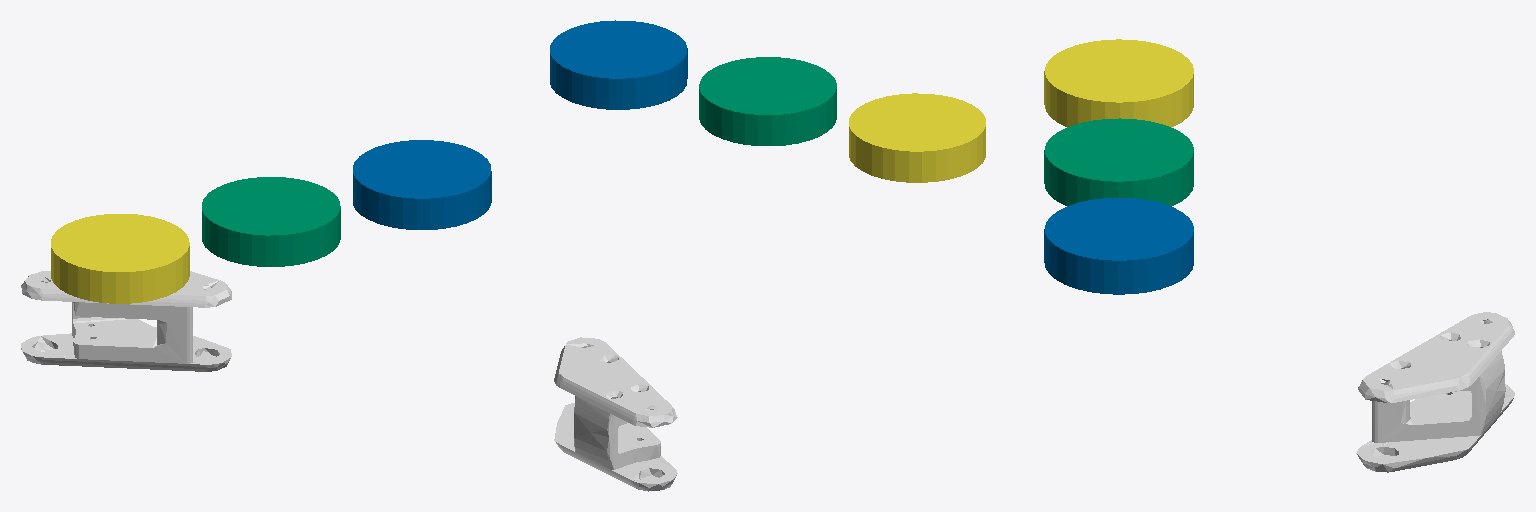
URDF robot description (avatar_gripper_3f_model):
<?xml version="1.0" ?>
<!-- =================================================================================== -->
<!-- |    This document was autogenerated by xacro from [local-path]/avatar_ws/src/avatar_simulation/avatar_gripper_description/urdf/avatar_gripper_3f_example.xacro | -->
<!-- |    EDITING THIS FILE BY HAND IS NOT RECOMMENDED                                 | -->
<!-- =================================================================================== -->
<robot name="avatar_gripper_3f_model">
  <link name="right_thumb_base">
    <inertial>
      <mass value="0.5"/>
      <inertia ixx="4E-5" ixy="0.0" ixz="0.0" iyy="4E-5" iyz="0.0" izz="4E-5"/>
    </inertial>
    <visual>
      <origin rpy="0 0 0" xyz="0 0 0"/>
      <geometry>
        <mesh filename="package://avatar_gripper_description/meshes/right/thumb_base_extra.STL"/>
      </geometry>
      <material name="">
        <color rgba="0.9 0.9 0.9 1"/>
      </material>
    </visual>
    <collision>
      <origin rpy="0 0 0" xyz="0 0 0"/>
      <geometry>
        <mesh filename="package://avatar_gripper_description/meshes/right/thumb_base_extra.STL"/>
      </geometry>
    </collision>
  </link>
  <link name="right_thumb_knuckle">
    <inertial>
      <mass value="0.5"/>
      <inertia ixx="4E-5" ixy="0.0" ixz="0.0" iyy="4E-5" iyz="0.0" izz="4E-5"/>
    </inertial>
    <visual>
      <origin rpy="0 0 0" xyz="0 0 0"/>
      <geometry>
        <mesh filename="package://avatar_gripper_description/meshes/right/thumb_knuckle.STL"/>
      </geometry>
      <material name="">
        <color rgba="0.9 0.9 0.9 1"/>
      </material>
    </visual>
    <collision>
      <origin rpy="0 0 0" xyz="0 0 0"/>
      <geometry>
        <mesh filename="package://avatar_gripper_description/meshes/right/thumb_knuckle.STL"/>
      </geometry>
    </collision>
  </link>
  <joint name="right_thumb_knuckle_joint" type="revolute">
    <origin rpy="0 2.75 0" xyz="0 0 0"/>
    <parent link="right_thumb_base"/>
    <child link="right_thumb_knuckle"/>
    <axis xyz="0 1 0"/>
    <limit effort="1000" lower="-1.0" upper="0.4" velocity="2.0"/>
  </joint>
  <link name="right_thumb_finger">
    <inertial>
      <mass value="0.5"/>
      <inertia ixx="4E-5" ixy="0.0" ixz="0.0" iyy="4E-5" iyz="0.0" izz="4E-5"/>
    </inertial>
    <visual>
      <origin rpy="0 0 0" xyz="0 0 0"/>
      <geometry>
        <mesh filename="package://avatar_gripper_description/meshes/right/thumb_fingertip.STL"/>
      </geometry>
      <material name="">
        <color rgba="0.9 0.9 0.9 1"/>
      </material>
    </visual>
    <collision>
      <origin rpy="0 0 0" xyz="0 0 0"/>
      <geometry>
        <mesh filename="package://avatar_gripper_description/meshes/right/thumb_fingertip.STL"/>
      </geometry>
    </collision>
  </link>
  <joint name="right_thumb_finger_joint" type="revolute">
    <origin rpy="0 0.57 0" xyz="0.04568 0 0.01106"/>
    <parent link="right_thumb_knuckle"/>
    <child link="right_thumb_finger"/>
    <axis xyz="0 1 0"/>
    <limit effort="1000" lower="-0.8" upper="0" velocity="2.0"/>
  </joint>
  <link name="right_thumb_swivel_link">
    <inertial>
      <mass value="0.1"/>
      <inertia ixx="4E-5" ixy="0.0" ixz="0.0" iyy="4E-5" iyz="0.0" izz="4E-5"/>
    </inertial>
    <visual>
      <origin rpy="0 0 0" xyz="0 0 0"/>
      <geometry>
        <mesh filename="package://avatar_gripper_description/meshes/right/thumb_swivel_link.STL"/>
      </geometry>
      <material name="">
        <color rgba="0.9 0.9 0.9 1"/>
      </material>
    </visual>
    <collision>
      <origin rpy="0 0 0" xyz="0 0 0"/>
      <geometry>
        <mesh filename="package://avatar_gripper_description/meshes/right/thumb_swivel_link.STL"/>
      </geometry>
    </collision>
  </link>
  <joint name="right_thumb_swivel_joint" type="revolute">
    <origin rpy="0 0 0" xyz="0 0 0.0173"/>
    <parent link="right_index_base_connector"/>
    <child link="right_thumb_swivel_link"/>
    <axis xyz="0 0 1"/>
    <limit effort="1000" lower="0" upper="1.7" velocity="2.0"/>
  </joint>
  <joint name="right_thumb_base_swivel_joint" type="fixed">
    <origin rpy="0 0 0" xyz="-0.03742 0 0.05089"/>
    <parent link="right_thumb_swivel_link"/>
    <child link="right_thumb_base"/>
  </joint>
  <link name="right_index_base_connector">
    <inertial>
      <mass value="0.02"/>
      <inertia ixx="4E-5" ixy="0.0" ixz="0.0" iyy="4E-5" iyz="0.0" izz="4E-5"/>
    </inertial>
    <visual>
      <origin rpy="0 0 0" xyz="0 0 0"/>
      <geometry>
        <mesh filename="package://avatar_gripper_description/meshes/right/index_base_connector.STL"/>
      </geometry>
      <material name="">
        <color rgba="0.9 0.9 0.9 1"/>
      </material>
    </visual>
    <collision>
      <origin rpy="0 0 0" xyz="0 0 0"/>
      <geometry>
        <mesh filename="package://avatar_gripper_description/meshes/right/index_base_connector.STL"/>
      </geometry>
      <material name="">
        <color rgba="0.9 0.9 0.9 1"/>
      </material>
    </collision>
  </link>
  <link name="right_index_knuckle">
    <inertial>
      <mass value="0.5"/>
      <inertia ixx="4E-5" ixy="0.0" ixz="0.0" iyy="4E-5" iyz="0.0" izz="4E-5"/>
    </inertial>
    <visual>
      <origin rpy="0 0 0" xyz="0 0 0"/>
      <geometry>
        <mesh filename="package://avatar_gripper_description/meshes/right/index_knuckle.STL"/>
      </geometry>
      <material name="">
        <color rgba="0.9 0.9 0.9 1"/>
      </material>
    </visual>
    <collision>
      <origin rpy="0 0 0" xyz="0 0 0"/>
      <geometry>
        <mesh filename="package://avatar_gripper_description/meshes/right/index_knuckle.STL"/>
      </geometry>
    </collision>
  </link>
  <joint name="right_index_knuckle_joint" type="revolute">
    <origin rpy="1.94428593 1.07478656 1.98996937" xyz="-0.021564878 0.008545 -0.0024358"/>
    <parent link="right_index_base_connector"/>
    <child link="right_index_knuckle"/>
    <axis xyz="0 0 1"/>
    <limit effort="1000" lower="-0.8" upper="0" velocity="2.0"/>
  </joint>
  <link name="right_index_fingertip">
    <inertial>
      <mass value="0.5"/>
      <inertia ixx="4E-5" ixy="0.0" ixz="0.0" iyy="4E-5" iyz="0.0" izz="4E-5"/>
    </inertial>
    <visual>
      <origin rpy="0 0 0" xyz="0 0 0"/>
      <geometry>
        <mesh filename="package://avatar_gripper_description/meshes/right/index_fingertip.STL"/>
      </geometry>
      <material name="">
        <color rgba="0.9 0.9 0.9 1"/>
      </material>
    </visual>
    <collision>
      <origin rpy="0 0 0" xyz="0 0 0"/>
      <geometry>
        <mesh filename="package://avatar_gripper_description/meshes/right/index_fingertip.STL"/>
      </geometry>
    </collision>
  </link>
  <joint name="right_index_fingertip_joint" type="revolute">
    <origin rpy="0 0 -0.35" xyz="0.0353829 -0.02780 0"/>
    <parent link="right_index_knuckle"/>
    <child link="right_index_fingertip"/>
    <axis xyz="0 0 1"/>
    <limit effort="1000" lower="-0.8" upper="0" velocity="2.0"/>
  </joint>
  <link name="right_middle_knuckle">
    <inertial>
      <mass value="0.5"/>
      <inertia ixx="4E-5" ixy="0.0" ixz="0.0" iyy="4E-5" iyz="0.0" izz="4E-5"/>
    </inertial>
    <visual>
      <origin rpy="0 0 0" xyz="0 0 0"/>
      <geometry>
        <mesh filename="package://avatar_gripper_description/meshes/right/index_knuckle.STL"/>
      </geometry>
      <material name="">
        <color rgba="0.9 0.9 0.9 1"/>
      </material>
    </visual>
    <collision>
      <origin rpy="0 0 0" xyz="0 0 0"/>
      <geometry>
        <mesh filename="package://avatar_gripper_description/meshes/right/index_knuckle.STL"/>
      </geometry>
    </collision>
  </link>
  <joint name="right_middle_knuckle_joint" type="revolute">
    <origin rpy="1.19730672 1.07478656 1.15162329" xyz="0.02156 0.008545 -0.0024358"/>
    <parent link="right_index_base_connector"/>
    <child link="right_middle_knuckle"/>
    <axis xyz="0 0 1"/>
    <limit effort="1000" lower="-0.8" upper="0" velocity="2.0"/>
  </joint>
  <link name="right_middle_fingertip">
    <inertial>
      <mass value="0.5"/>
      <inertia ixx="4E-5" ixy="0.0" ixz="0.0" iyy="4E-5" iyz="0.0" izz="4E-5"/>
    </inertial>
    <visual>
      <origin rpy="0 0 0" xyz="0 0 0"/>
      <geometry>
        <mesh filename="package://avatar_gripper_description/meshes/right/index_fingertip.STL"/>
      </geometry>
      <material name="">
        <color rgba="0.9 0.9 0.9 1"/>
      </material>
    </visual>
    <collision>
      <origin rpy="0 0 0" xyz="0 0 0"/>
      <geometry>
        <mesh filename="package://avatar_gripper_description/meshes/right/index_fingertip.STL"/>
      </geometry>
    </collision>
  </link>
  <joint name="right_middle_fingertip_joint" type="revolute">
    <origin rpy="0 0 -0.35" xyz="0.0353829 -0.02780 0"/>
    <parent link="right_middle_knuckle"/>
    <child link="right_middle_fingertip"/>
    <axis xyz="0 0 1"/>
    <limit effort="1000" lower="-0.8" upper="0" velocity="2.0"/>
  </joint>
  <link name="right_gripper_base">
    <inertial>
      <mass value="2.0"/>
      <inertia ixx="7.11E-3" ixy="0.0" ixz="0.0" iyy="7.11E-3" iyz="0.0" izz="7.11E-3"/>
    </inertial>
    <visual>
      <origin rpy="0 0 0" xyz="0 0 0"/>
      <geometry>
        <mesh filename="package://avatar_gripper_description/meshes/right/gripper_base.STL"/>
      </geometry>
      <material name="">
        <color rgba="0.9 0.9 0.7 1"/>
      </material>
    </visual>
    <collision>
      <origin rpy="0 0 0" xyz="0 0 -0.03"/>
      <geometry>
        <box size="0.1 0.1 0.06"/>
      </geometry>
    </collision>
  </link>
  <joint name="right_gripper_base_joint" type="fixed">
    <origin rpy="1.57 0 0" xyz="0.00736 0.139 -0.066017"/>
    <parent link="right_gripper_base"/>
    <child link="right_index_base_connector"/>
  </joint>
  <link name="right_thumb_flex_motor">
    <inertial>
      <mass value="0.25"/>
      <inertia ixx="1.463E-04" ixy="0" ixz="0" iyy="1.463E-04" iyz="0" izz="1.463E-04"/>
    </inertial>
    <visual>
      <origin rpy="0 0 0" xyz="0 0 0"/>
      <geometry>
        <cylinder length="0.01" radius="0.02"/>
      </geometry>
    </visual>
  </link>
  <joint name="right_thumb_flex_motor_joint" type="revolute">
    <origin rpy="0 0 0" xyz="-0.05 0.0 0.0"/>
    <parent link="right_gripper_base"/>
    <child link="right_thumb_flex_motor"/>
    <axis xyz="0 0 1"/>
    <limit effort="1000" lower="-2.3" upper="-0.08" velocity="2.0"/>
  </joint>
  <link name="right_thumb_swivel_motor">
    <inertial>
      <mass value="0.25"/>
      <inertia ixx="1.463E-04" ixy="0" ixz="0" iyy="1.463E-04" iyz="0" izz="1.463E-04"/>
    </inertial>
    <visual>
      <origin rpy="0 0 0" xyz="0 0 0"/>
      <geometry>
        <cylinder length="0.01" radius="0.02"/>
      </geometry>
    </visual>
  </link>
  <joint name="right_thumb_swivel_motor_joint" type="revolute">
    <origin rpy="0 0 0" xyz="-0.1 0.0 0.0"/>
    <parent link="right_gripper_base"/>
    <child link="right_thumb_swivel_motor"/>
    <axis xyz="0 0 1"/>
    <limit effort="1000" lower="-2.3" upper="-0.05" velocity="2.0"/>
  </joint>
  <link name="right_index_flex_motor">
    <inertial>
      <mass value="0.25"/>
      <inertia ixx="1.463E-04" ixy="0" ixz="0" iyy="1.463E-04" iyz="0" izz="1.463E-04"/>
    </inertial>
    <visual>
      <origin rpy="0 0 0" xyz="0 0 0"/>
      <geometry>
        <cylinder length="0.01" radius="0.02"/>
      </geometry>
    </visual>
  </link>
  <joint name="right_index_flex_motor_joint" type="revolute">
    <origin rpy="0 0 0" xyz="0.0 0.0 0.0"/>
    <parent link="right_gripper_base"/>
    <child link="right_index_flex_motor"/>
    <axis xyz="0 0 1"/>
    <limit effort="1000" lower="-2.3" upper="-0.08" velocity="2.0"/>
  </joint>
</robot>

--- What the picture shows (computed from the rendered views, not written in the file) ---
3 views of the same robot in one strip: view 1: azimuth 30°, elevation 25°; view 2: azimuth 150°, elevation 25°; view 3: azimuth 270°, elevation 25° (orthographic).
Robot: avatar_gripper_3f_model — 13 links, 12 joints (10 revolute, 2 fixed); root link right_gripper_base; default pose: joints at zero except 3 at the middle of their limits (right_thumb_flex_motor_joint = -1.19, right_thumb_swivel_motor_joint = -1.18, right_index_flex_motor_joint = -1.19).
Visible links, largest first — view 1: right_thumb_knuckle, right_thumb_flex_motor, right_index_flex_motor, right_thumb_swivel_motor; view 2: right_thumb_knuckle, right_thumb_flex_motor, right_index_flex_motor, right_thumb_swivel_motor; view 3: right_thumb_knuckle, right_index_flex_motor, right_thumb_swivel_motor, right_thumb_flex_motor.
Boxes of the visible links, x1,y1,x2,y2 form: right_thumb_knuckle: (21, 271, 231, 371); right_thumb_flex_motor: (202, 177, 340, 266); right_index_flex_motor: (353, 140, 491, 229); right_thumb_swivel_motor: (51, 214, 189, 303); right_thumb_knuckle: (554, 337, 677, 491); right_thumb_flex_motor: (699, 57, 836, 145); right_index_flex_motor: (550, 20, 687, 109); right_thumb_swivel_motor: (849, 93, 985, 182); right_thumb_knuckle: (1356, 312, 1514, 472); right_index_flex_motor: (1044, 198, 1193, 294); right_thumb_swivel_motor: (1044, 39, 1193, 127); right_thumb_flex_motor: (1044, 118, 1193, 206).
Size in the robot's own frame: 0.14 by 0.1259 by 0.083 metres.
Meshes: 8 distinct files referenced, 1 mesh visuals loaded (1 binary STL); not drawn: 9 (reference not matched to a file when rendering).